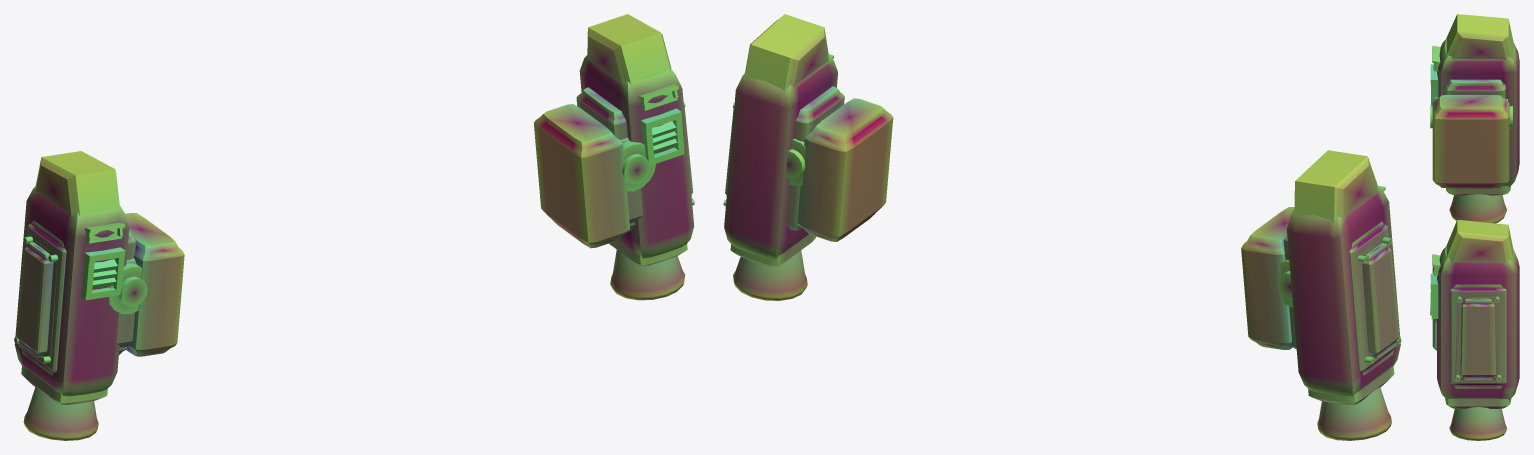
The model's file is llm_gen_leg_thrusters_039_d2e9cc.glb.
3 renders of one model, left to right at view 1: azimuth 30°, elevation 25°; view 2: azimuth 150°, elevation 25°; view 3: azimuth 270°, elevation 25°, orthographic. The views are drawn at different scales.
Visible parts, largest first — view 1: adapter_calf_clamp_r, calf_thruster_hull_1_crimson_gloss_l, calf_thruster_hull_1_crimson_gloss_r, adapter_calf_clamp_l, nacelle_upper_cowl_2_adapter_dark_r, nacelle_upper_cowl_2_adapter_dark_l, nacelle_flank_armor_6_adapter_dark_l, calf_main_bell_8_vernier_bell_vernier_l, calf_main_bell_8_vernier_bell_vernier_r, adapter_sub_flank_frame_dark_5_adapter_dark_l, adapter_sub_nacelle_intake_louver_3_dark_l, adapter_sub_tank_cradle_dark_0_adapter_dark_r (+5 smaller); view 2: calf_thruster_hull_1_crimson_gloss_l, calf_thruster_hull_1_crimson_gloss_r, adapter_calf_clamp_r, adapter_calf_clamp_l, nacelle_upper_cowl_2_adapter_dark_r, nacelle_upper_cowl_2_adapter_dark_l, nacelle_flank_armor_6_adapter_dark_l, calf_main_bell_8_vernier_bell_vernier_l, calf_main_bell_8_vernier_bell_vernier_r, adapter_sub_flank_frame_dark_5_adapter_dark_l, adapter_sub_tank_cradle_dark_0_adapter_dark_r, adapter_sub_nozzle_shroud_dark_7_adapter_dark_l (+1 smaller); view 3: adapter_calf_clamp_l, calf_thruster_hull_1_crimson_gloss_r, nacelle_flank_armor_6_adapter_dark_r, calf_thruster_hull_1_crimson_gloss_l, nacelle_upper_cowl_2_adapter_dark_l, nacelle_upper_cowl_2_adapter_dark_r, adapter_sub_flank_frame_dark_5_adapter_dark_r, calf_main_bell_8_vernier_bell_vernier_r, calf_main_bell_8_vernier_bell_vernier_l, adapter_sub_tank_cradle_dark_0_adapter_dark_l, adapter_sub_nozzle_shroud_dark_7_adapter_dark_r, adapter_sub_nozzle_shroud_dark_7_adapter_dark_l (+6 smaller).
Part boxes in pixels (x1,y1,x2,y2): adapter_calf_clamp_r: [534, 104, 655, 248]; calf_thruster_hull_1_crimson_gloss_l: [14, 185, 129, 396]; calf_thruster_hull_1_crimson_gloss_r: [579, 54, 694, 258]; adapter_calf_clamp_l: [108, 213, 184, 356]; nacelle_upper_cowl_2_adapter_dark_r: [587, 14, 671, 84]; nacelle_upper_cowl_2_adapter_dark_l: [35, 151, 119, 216]; nacelle_flank_armor_6_adapter_dark_l: [14, 236, 58, 363]; calf_main_bell_8_vernier_bell_vernier_l: [23, 387, 98, 440]; calf_main_bell_8_vernier_bell_vernier_r: [610, 250, 685, 300]; adapter_sub_flank_frame_dark_5_adapter_dark_l: [18, 220, 66, 375]; adapter_sub_nacelle_intake_louver_3_dark_l: [81, 247, 125, 300]; adapter_sub_tank_cradle_dark_0_adapter_dark_r: [576, 87, 635, 231]; calf_thruster_hull_1_crimson_gloss_l: [1287, 185, 1400, 396]; calf_thruster_hull_1_crimson_gloss_r: [724, 54, 837, 259]; adapter_calf_clamp_r: [788, 98, 893, 241]; adapter_calf_clamp_l: [1241, 207, 1294, 349]; nacelle_upper_cowl_2_adapter_dark_r: [744, 14, 828, 91]; nacelle_upper_cowl_2_adapter_dark_l: [1294, 150, 1378, 224]; nacelle_flank_armor_6_adapter_dark_l: [1357, 237, 1401, 363]; calf_main_bell_8_vernier_bell_vernier_l: [1317, 387, 1391, 440]; calf_main_bell_8_vernier_bell_vernier_r: [733, 250, 807, 300]; adapter_sub_flank_frame_dark_5_adapter_dark_l: [1349, 221, 1397, 375]; adapter_sub_tank_cradle_dark_0_adapter_dark_r: [787, 86, 844, 230]; adapter_sub_nozzle_shroud_dark_7_adapter_dark_l: [1308, 366, 1394, 404]; adapter_calf_clamp_l: [1432, 95, 1509, 188]; calf_thruster_hull_1_crimson_gloss_r: [1437, 246, 1519, 400]; nacelle_flank_armor_6_adapter_dark_r: [1455, 296, 1501, 381]; calf_thruster_hull_1_crimson_gloss_l: [1437, 39, 1519, 186]; nacelle_upper_cowl_2_adapter_dark_l: [1446, 14, 1513, 60]; nacelle_upper_cowl_2_adapter_dark_r: [1446, 220, 1513, 263]; adapter_sub_flank_frame_dark_5_adapter_dark_r: [1450, 284, 1506, 388]; calf_main_bell_8_vernier_bell_vernier_r: [1449, 407, 1506, 440]; calf_main_bell_8_vernier_bell_vernier_l: [1449, 194, 1506, 223]; adapter_sub_tank_cradle_dark_0_adapter_dark_l: [1445, 79, 1505, 98]; adapter_sub_nozzle_shroud_dark_7_adapter_dark_r: [1445, 398, 1511, 408]; adapter_sub_nozzle_shroud_dark_7_adapter_dark_l: [1446, 185, 1510, 195].
Bounding box in the file's own units: 82.51 × 31.74 × 12.73.
